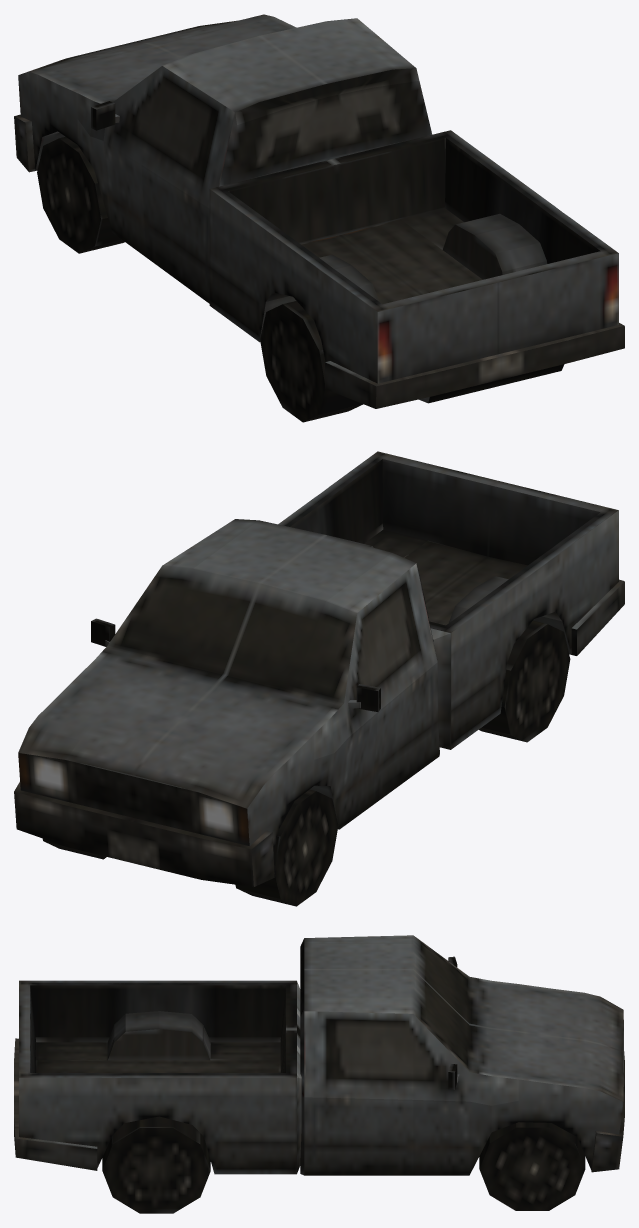
The model's file is Pick_Up_1.fbx.
3 renders of one model, top to bottom at view 1: azimuth 30°, elevation 25°; view 2: azimuth 150°, elevation 25°; view 3: azimuth 270°, elevation 25°, orthographic. The views are drawn at different scales.
Parts seen in each view (by area): view 1: Pick_Up_1; view 2: Pick_Up_1; view 3: Pick_Up_1.
Part boxes in pixels (x1,y1,x2,y2): Pick_Up_1: (14,14,624,422); Pick_Up_1: (14,451,624,906); Pick_Up_1: (14,935,624,1213).
Bounding box in the file's own units: 316 × 248 × 704.
1 material, 1 textured.
